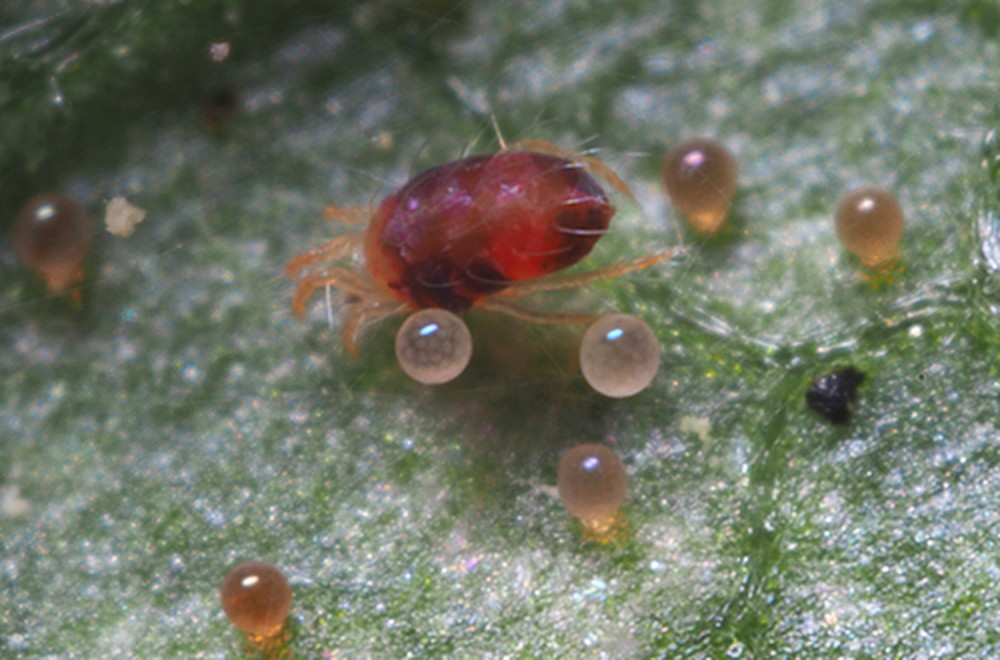Aracnido Rojo: (283, 113, 662, 352)
